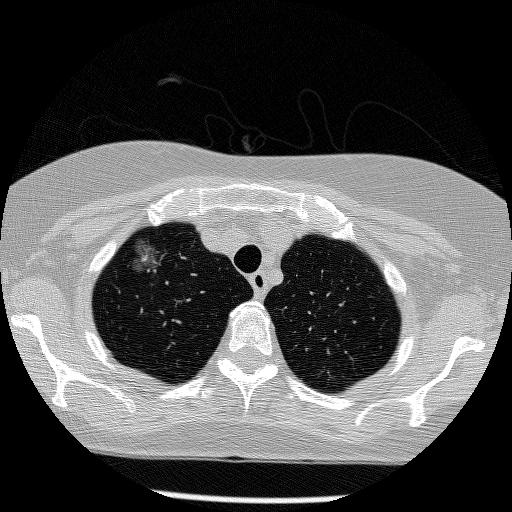nodule: (129, 240, 162, 273)
